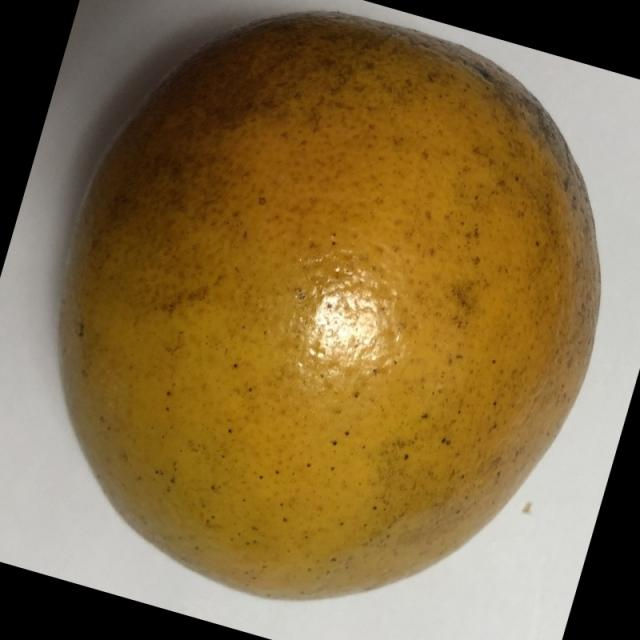blackspot: (29, 8, 606, 609)
